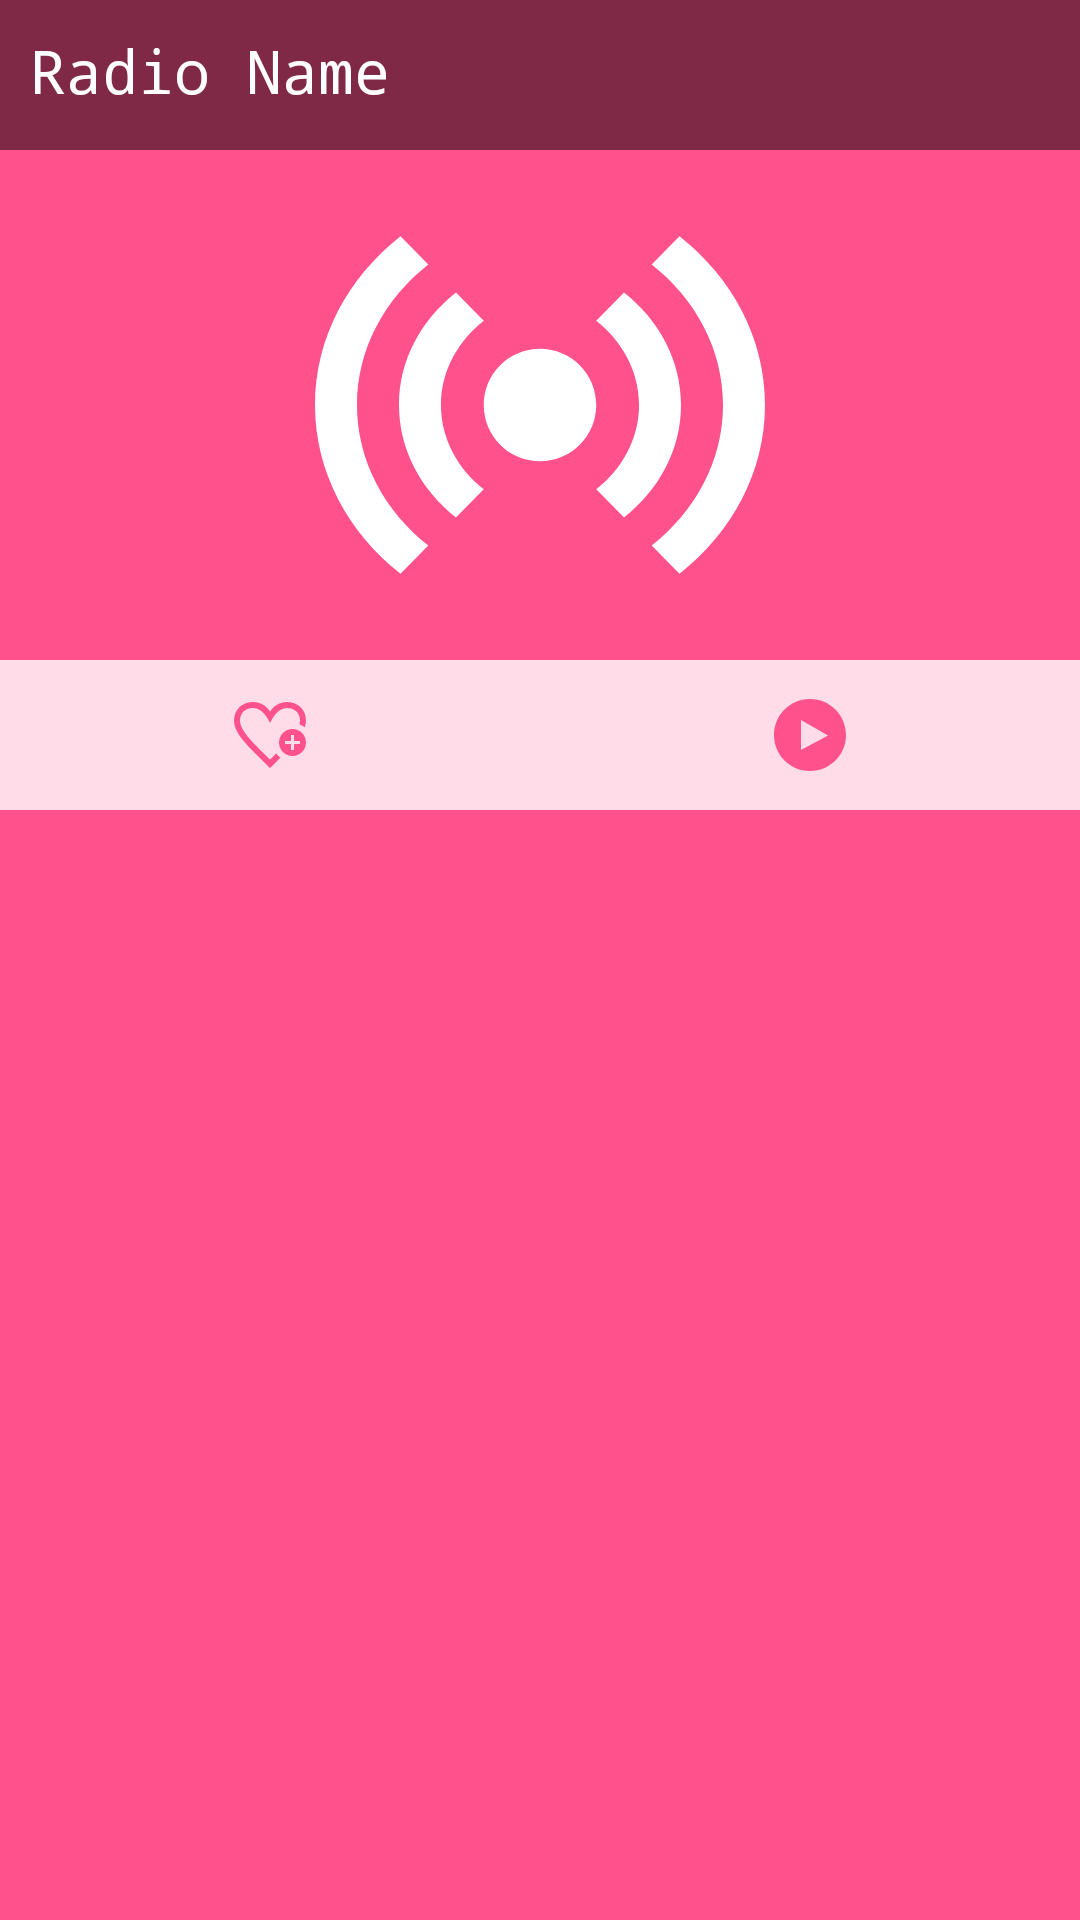

Icons on this 1080w x 1920h Android screen, each with its box as [x1, y1, x2, y2]:
play: [774, 699, 846, 771]
